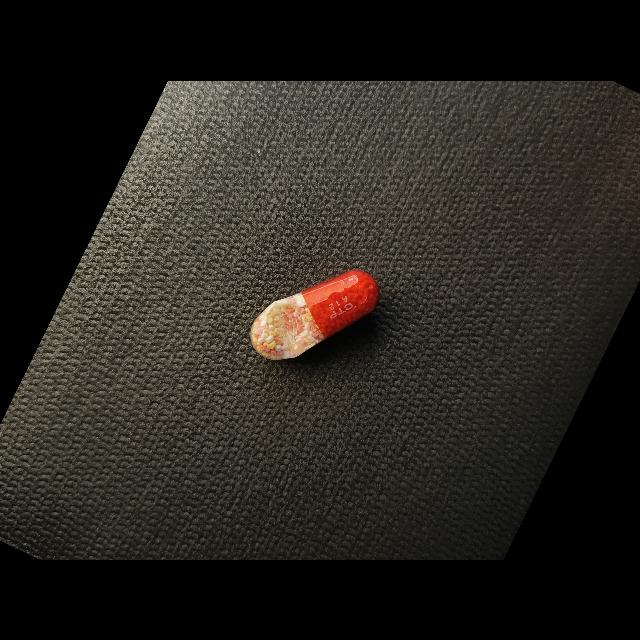Defective Capsule: (250, 269, 380, 359)
